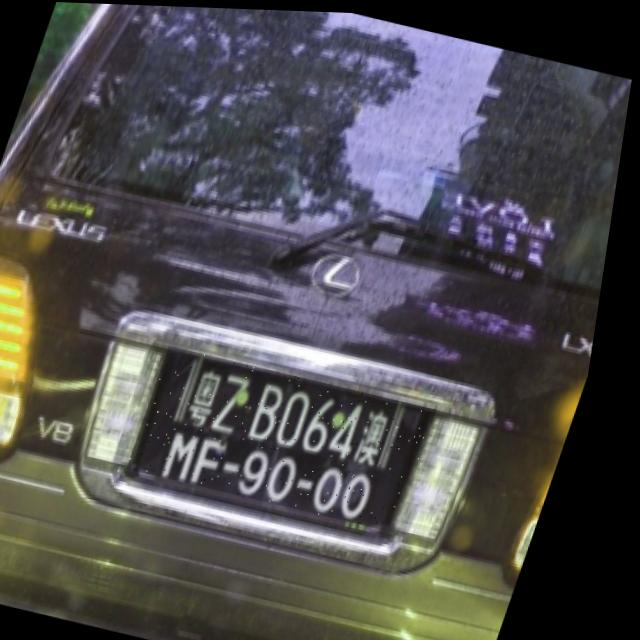license_plate: (134, 344, 455, 529)
